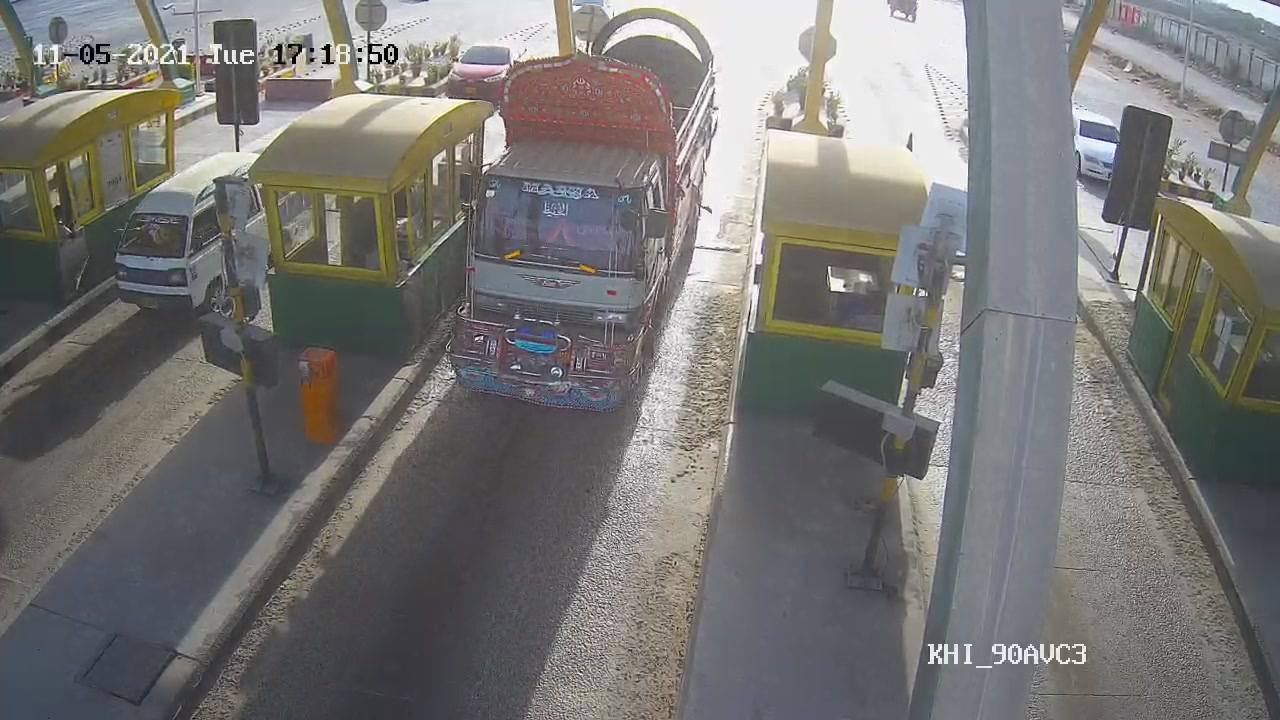F5: (445, 7, 720, 401)
